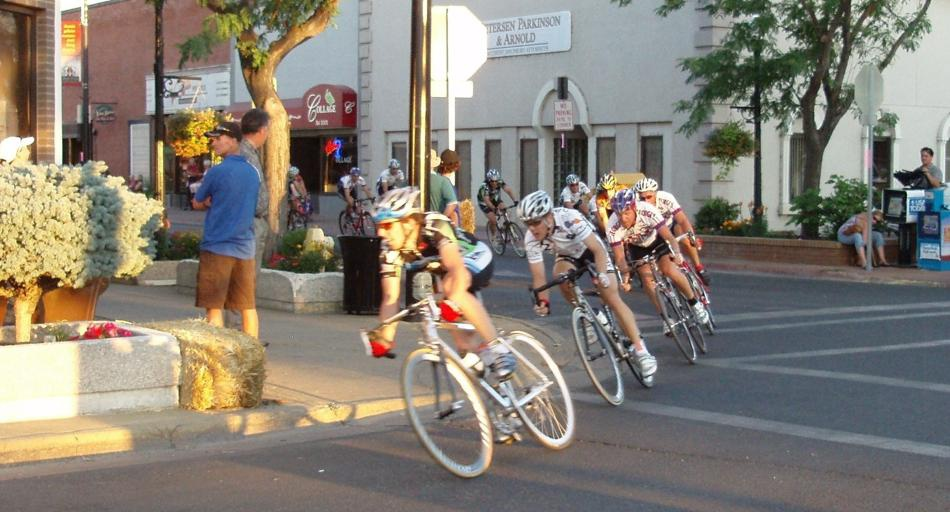non-vehicle: (355, 295, 576, 481), (527, 259, 655, 407), (614, 240, 707, 364), (676, 229, 717, 335), (484, 203, 526, 259), (338, 196, 376, 236), (287, 191, 313, 231)
